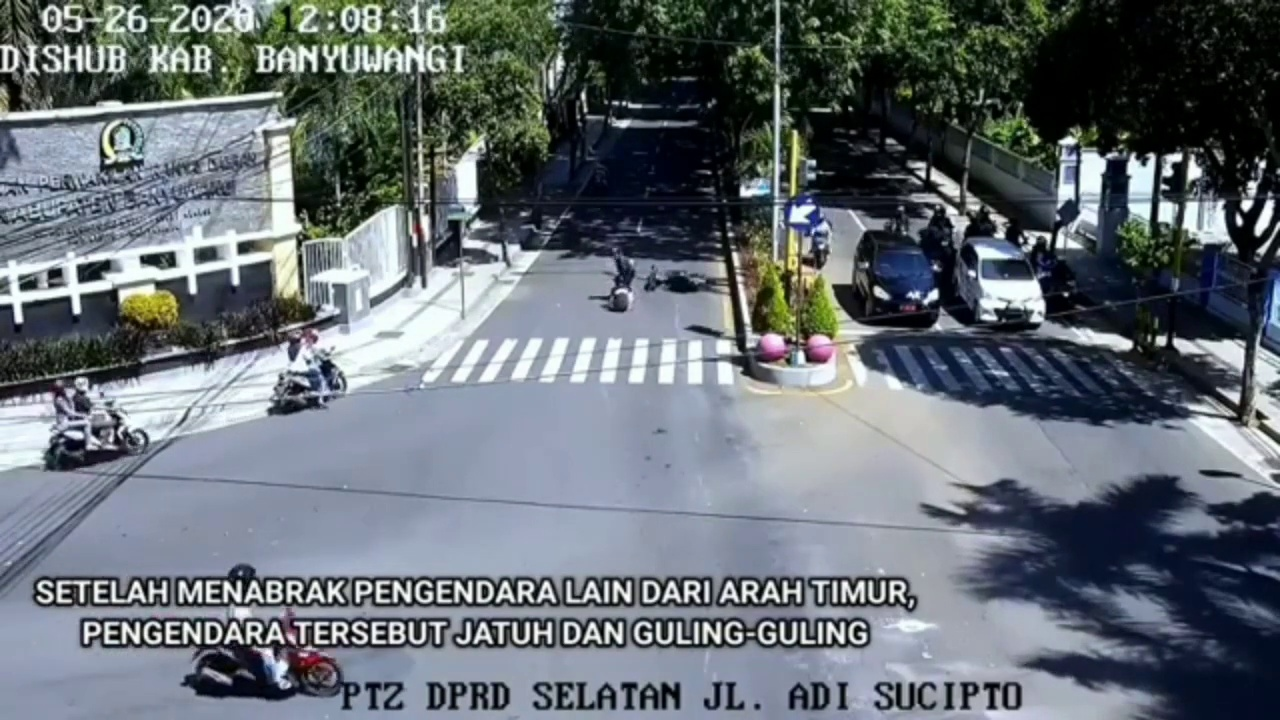car: (957, 237, 1041, 329), (855, 230, 937, 324)
motorbike: (46, 374, 151, 467), (273, 334, 351, 419), (809, 213, 830, 266)
